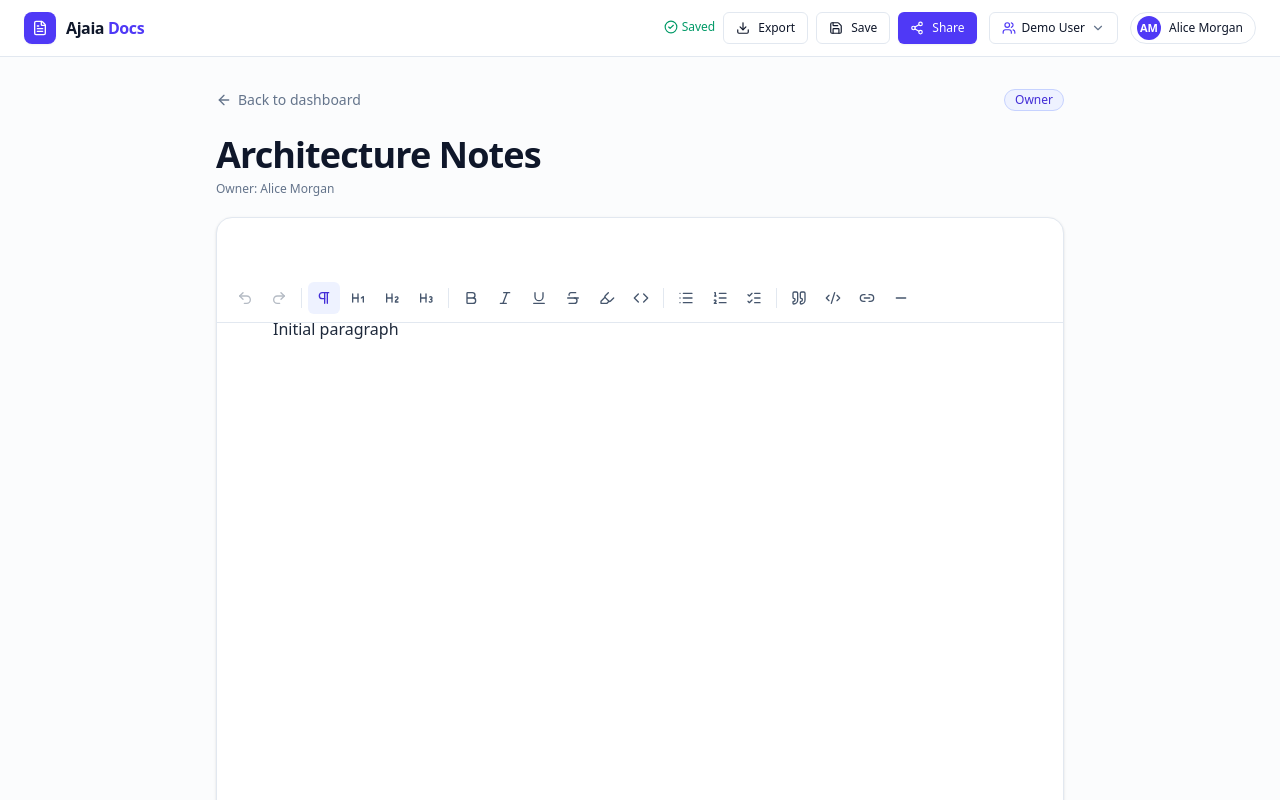
it: Tiptap DocumentEditor & DocumentWorkspace › shows Save failed state on error and recovers on Retry
Replace the text in the field named "Document title" with "Recovered Title" at (640, 155), box x1=216 y1=135 x2=1064 y2=175
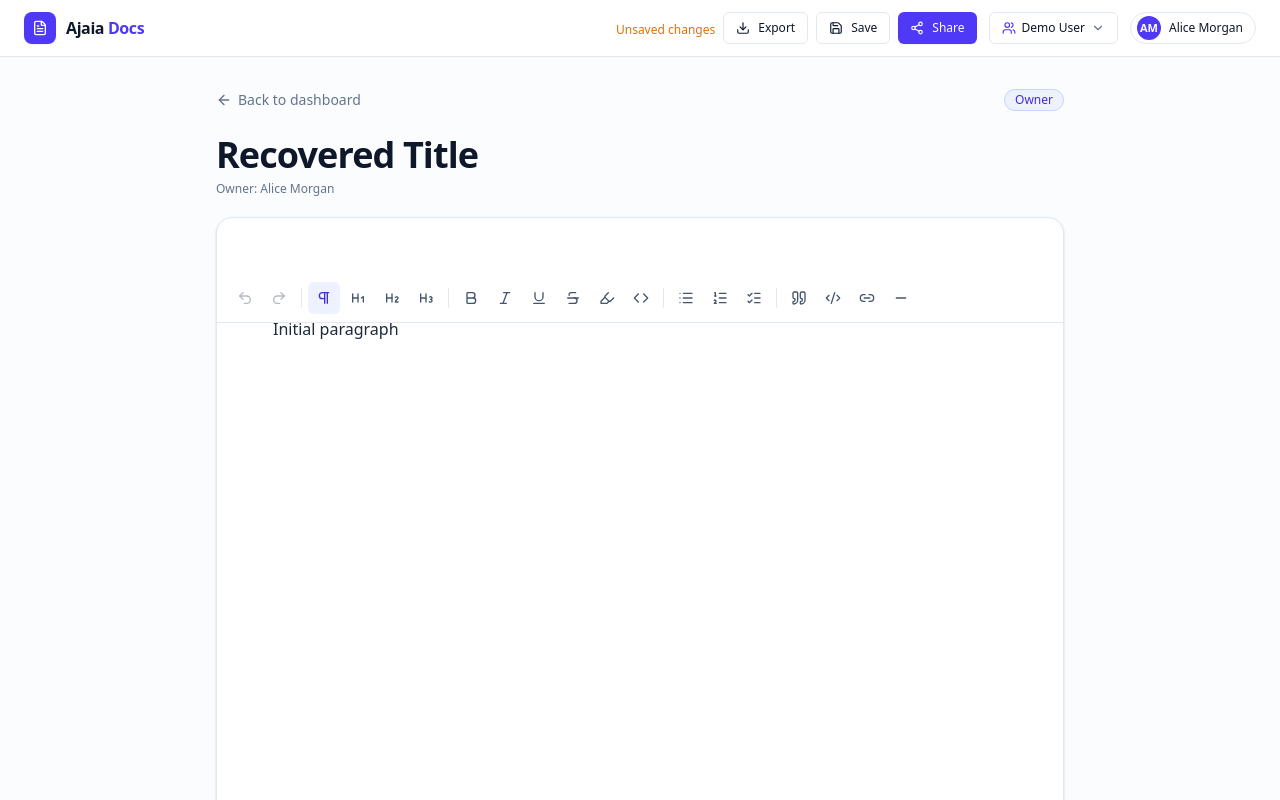
Click the button "Save".
click(853, 28)  # box x1=816 y1=12 x2=890 y2=44
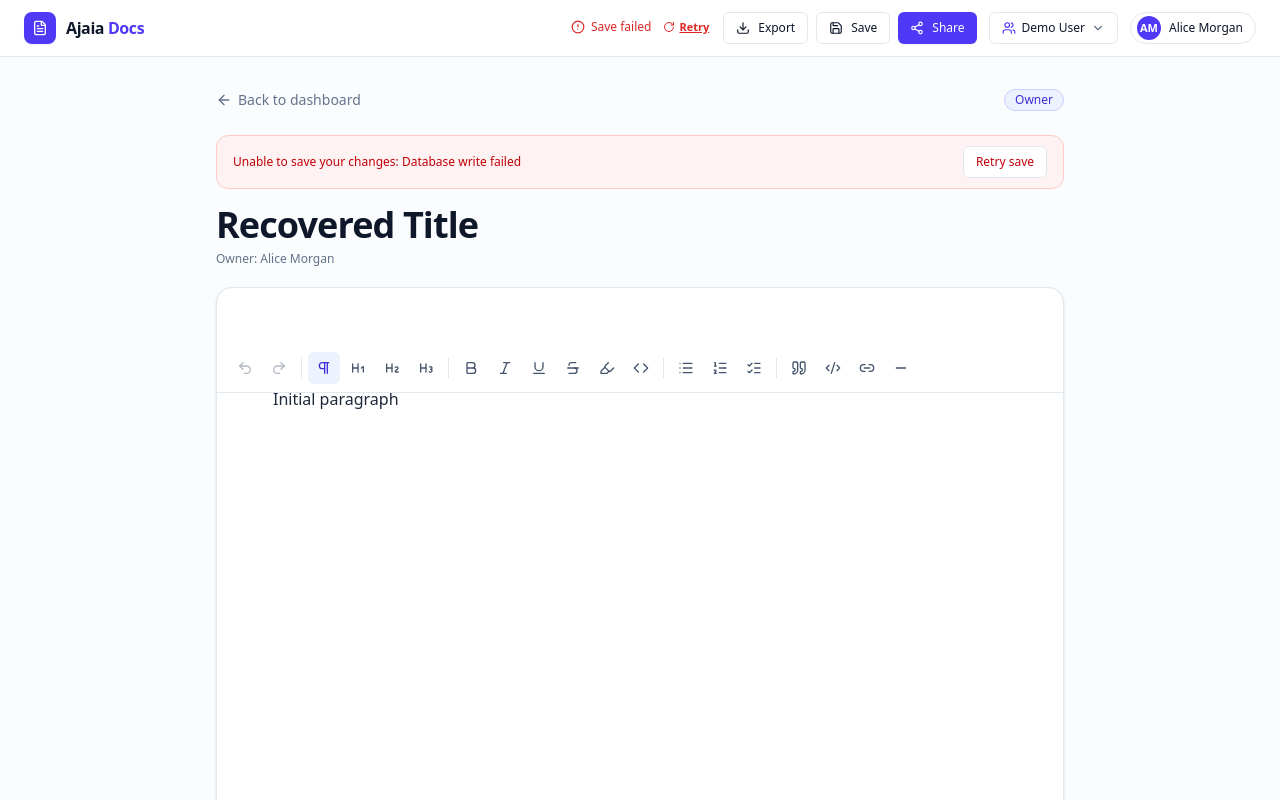
Now the text "Save failed" is shown, box x1=591 y1=19 x2=651 y2=35
Click the button "Retry save".
click(1005, 162)  # box x1=963 y1=146 x2=1047 y2=178
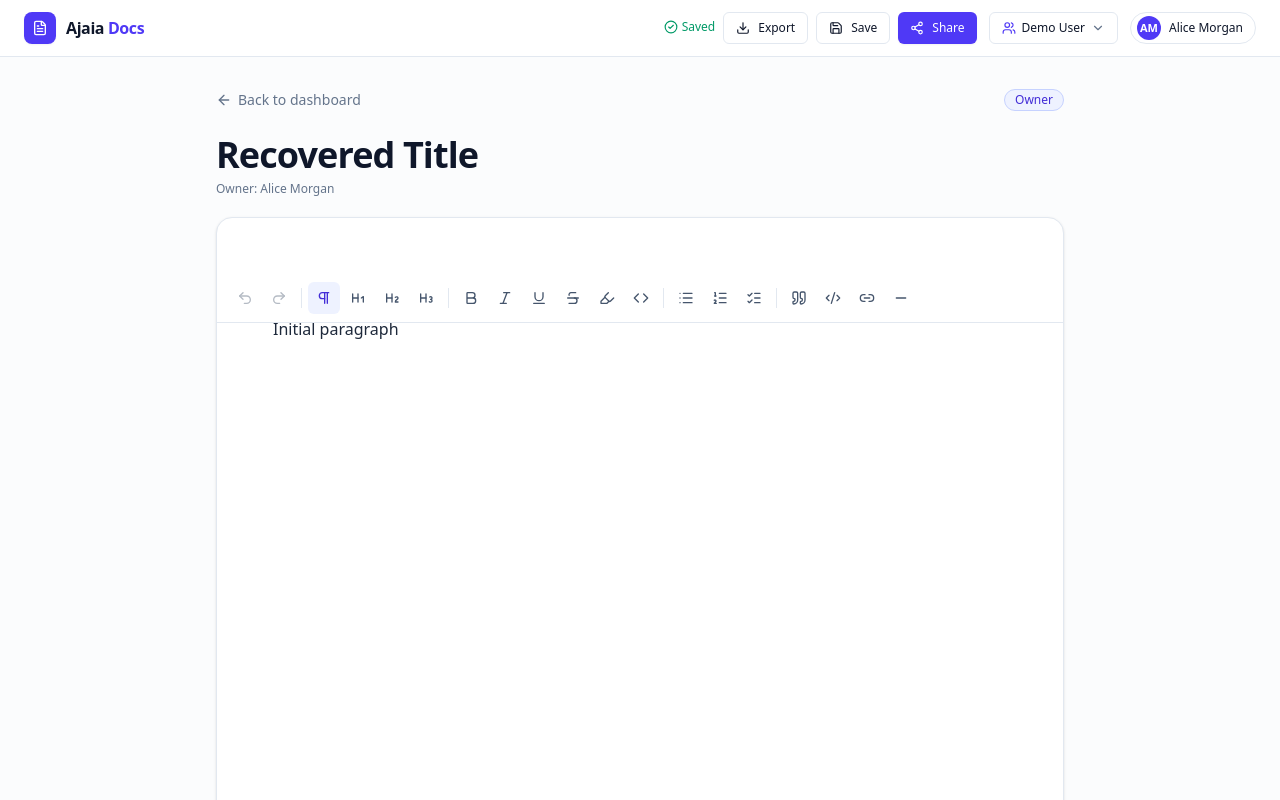
Now the text "Saved" is shown, box x1=664 y1=19 x2=715 y2=35
